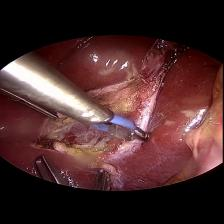Bipolar: (86, 103, 160, 145)
Grasper: (30, 149, 113, 193), (3, 89, 61, 121)
